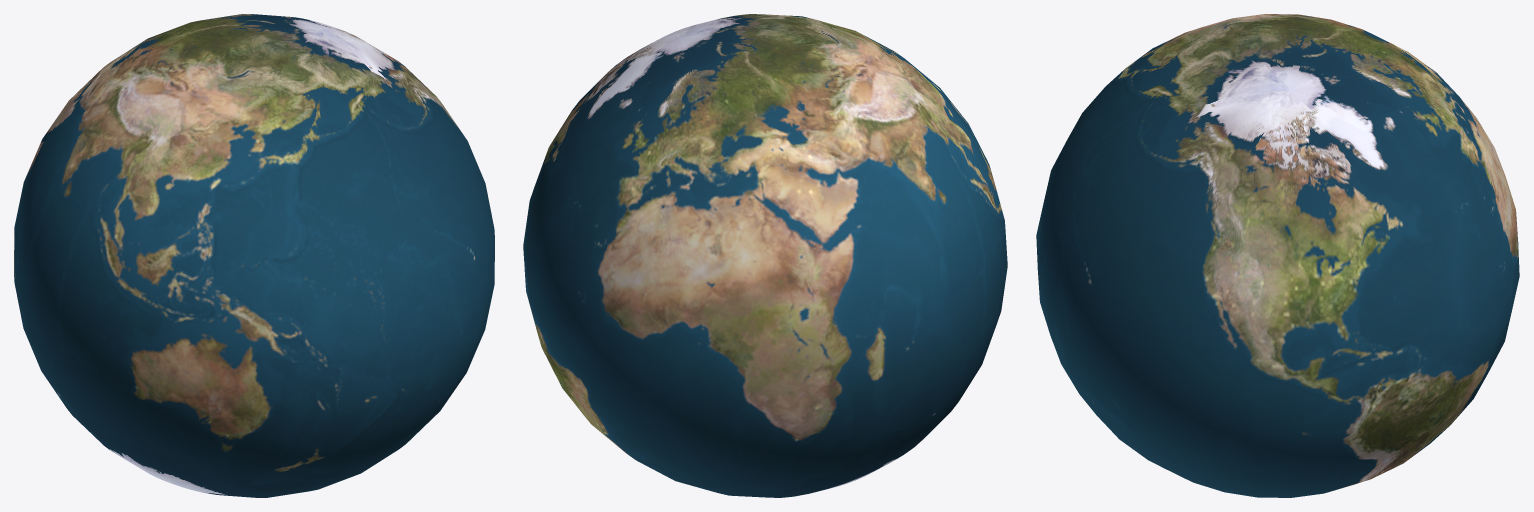
The model's file is earth-simple.glb.
3 views of the same model, side by side, from view 1: azimuth 30°, elevation 25°; view 2: azimuth 150°, elevation 25°; view 3: azimuth 270°, elevation 25° (orthographic).
Visible parts, largest first — view 1: Earth.Sphere; view 2: Earth.Sphere; view 3: Earth.Sphere.
Boxes of the visible parts, bbox=[...] form: Earth.Sphere: bbox=[14, 14, 494, 497]; Earth.Sphere: bbox=[523, 14, 1007, 497]; Earth.Sphere: bbox=[1036, 14, 1519, 497].
Size of the model in its own units: 2 by 2 by 1.99.
Materials: 1 (1 with a texture image).
